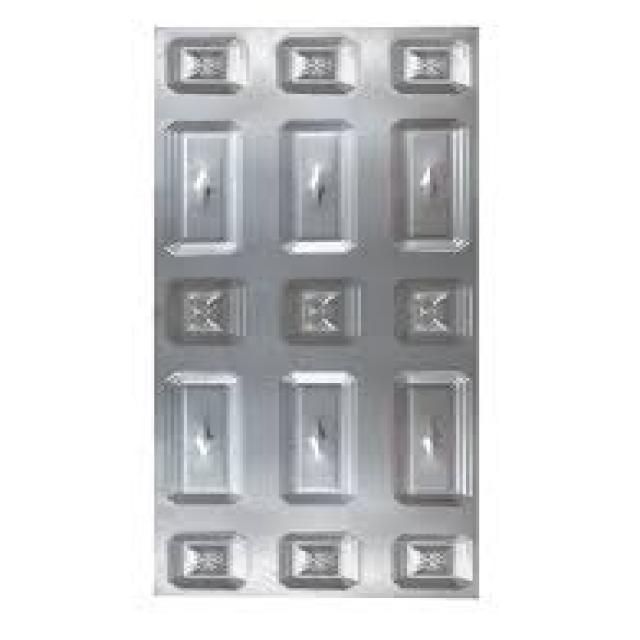door: (152, 26, 480, 599)
